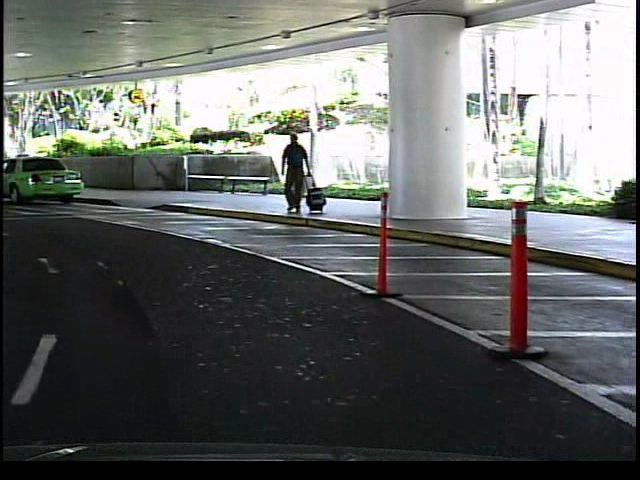person: (278, 127, 316, 220)
